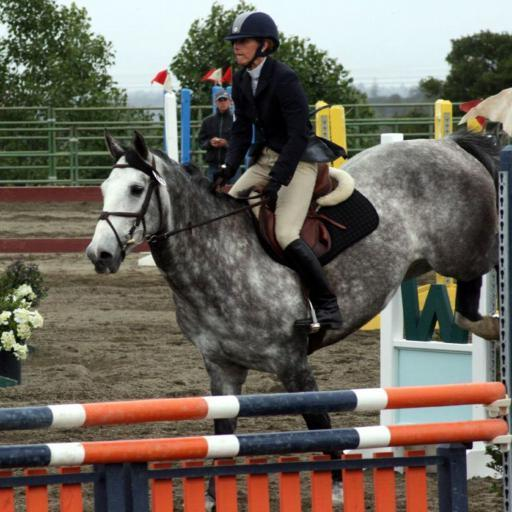horse: (84, 126, 505, 512)
